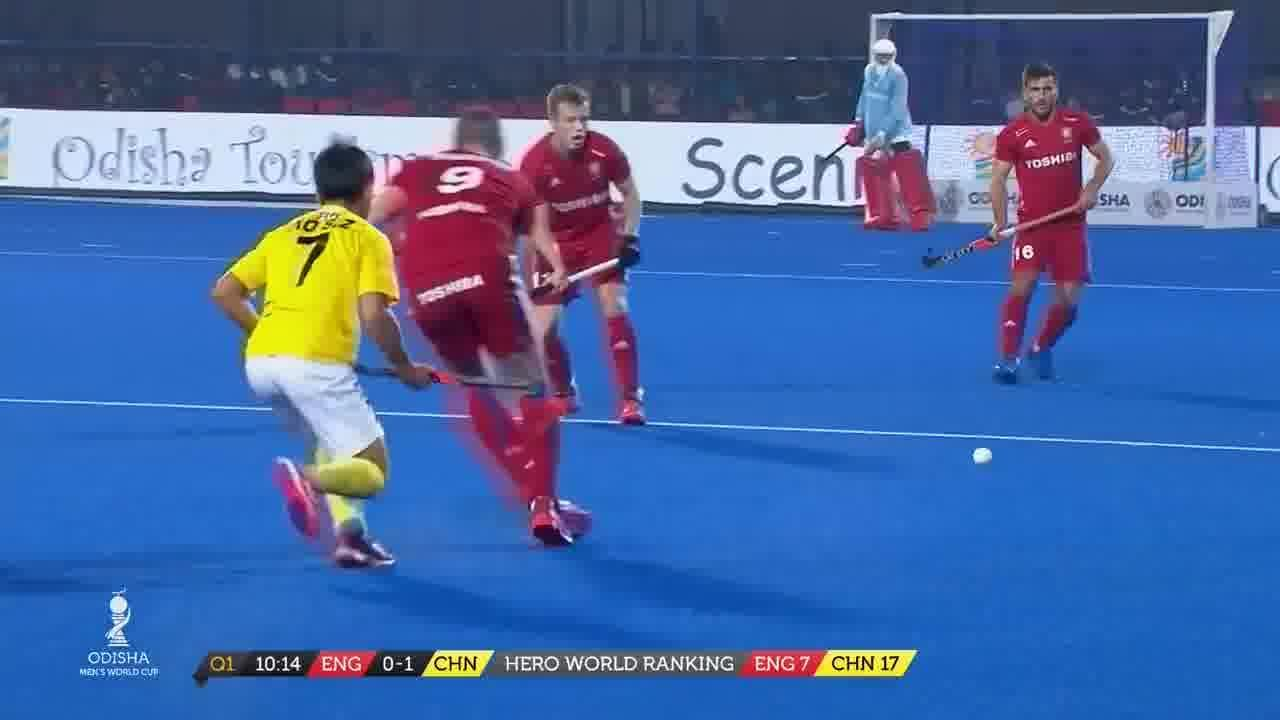ball: (966, 438, 998, 474)
